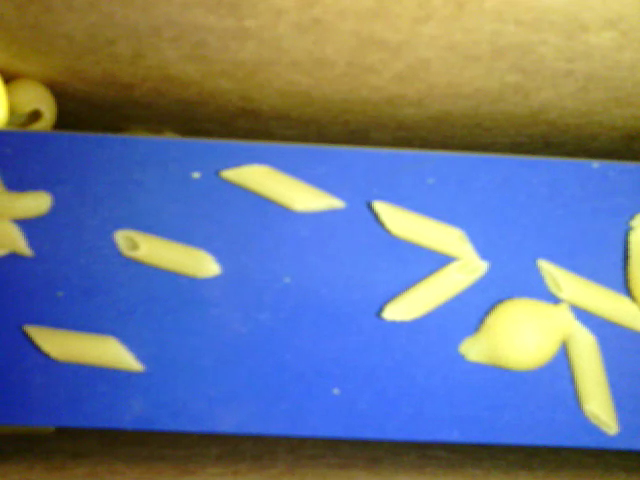elbow: (2, 177, 51, 225)
penne: (535, 256, 638, 332), (377, 259, 493, 325), (369, 200, 481, 266), (564, 316, 618, 442), (216, 164, 346, 214), (112, 227, 223, 278), (24, 325, 144, 372)
shell: (456, 298, 581, 372), (1, 76, 59, 134)
